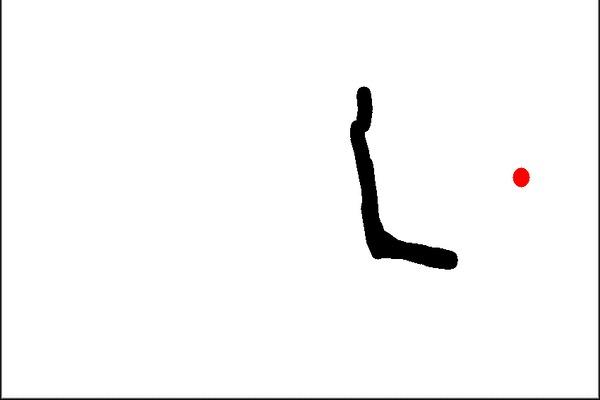L: (344, 77, 466, 277)
